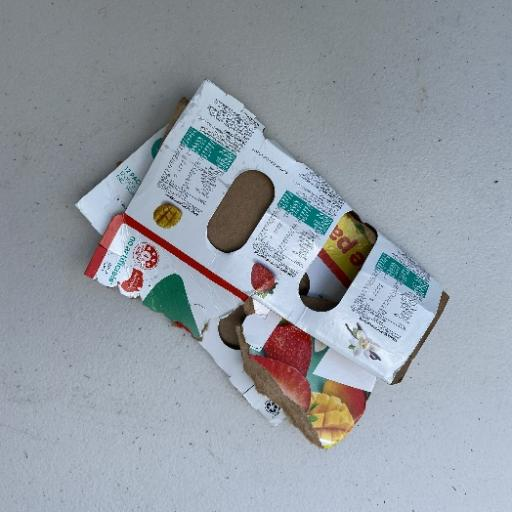Cardboard: (78, 77, 451, 451)
